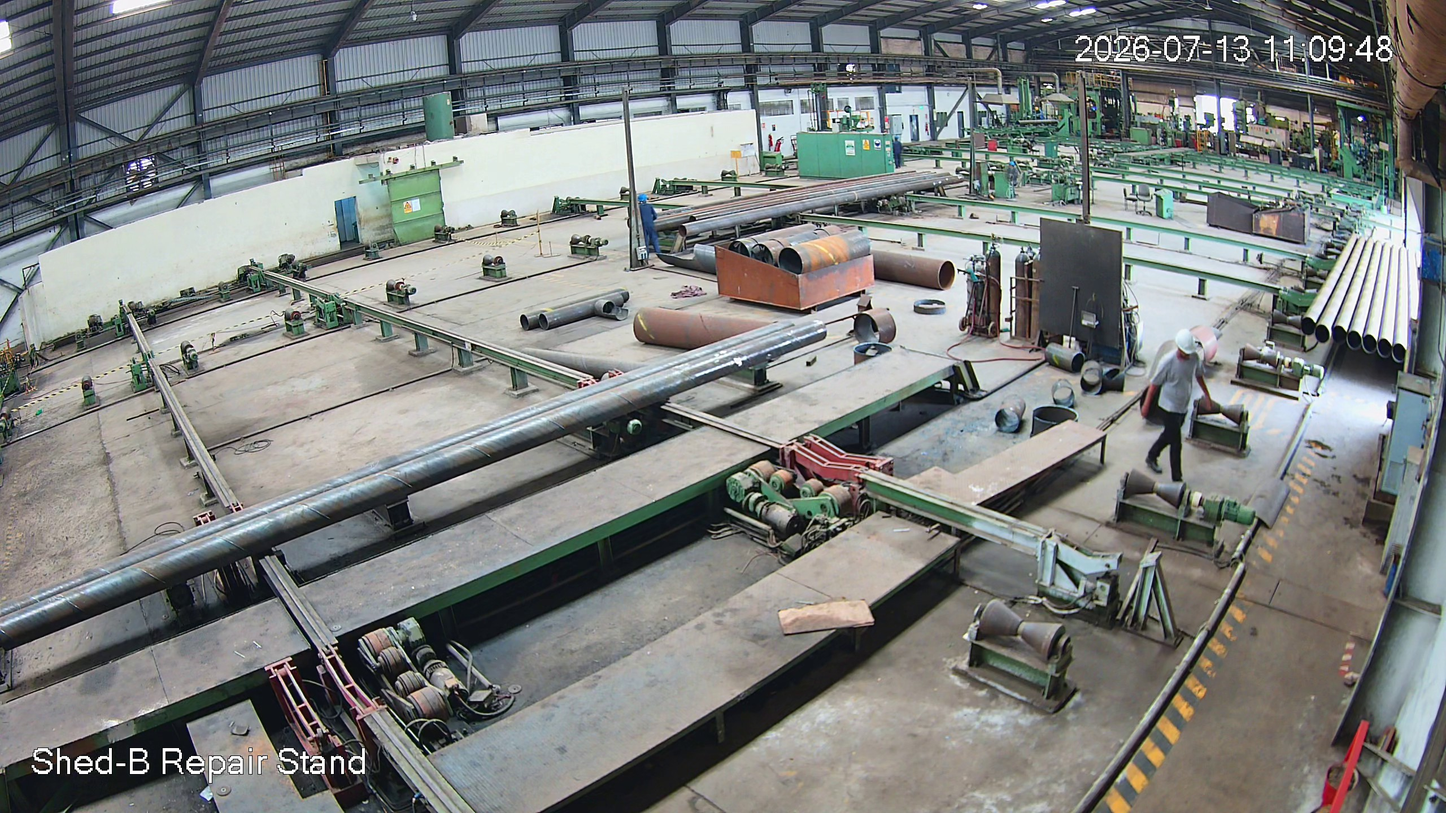Helmet: (1172, 330, 1201, 368)
Person: (1157, 334, 1203, 488), (637, 194, 668, 260)
